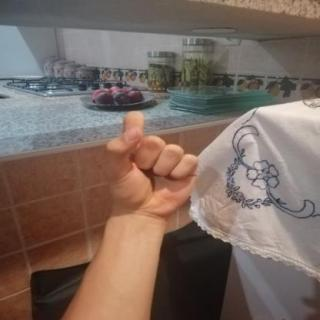FAA: (93, 103, 205, 225)
